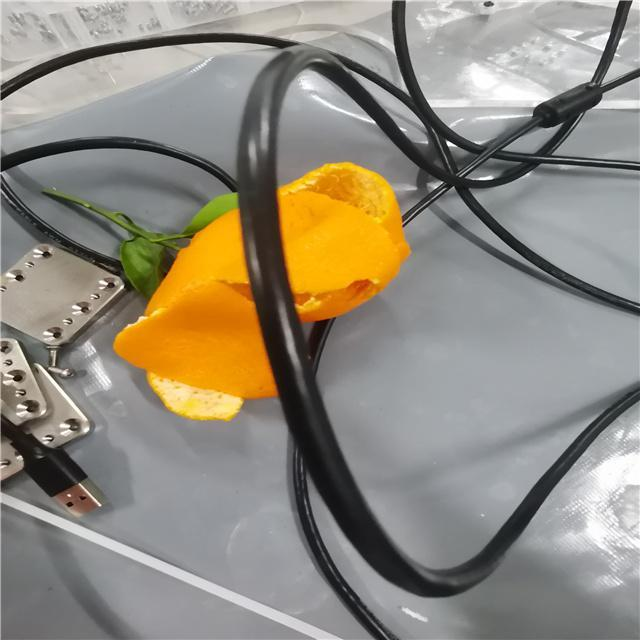orange-peel: (112, 159, 411, 416)
